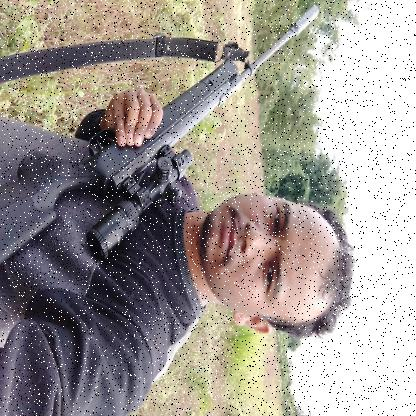rifle: (0, 3, 321, 267)
